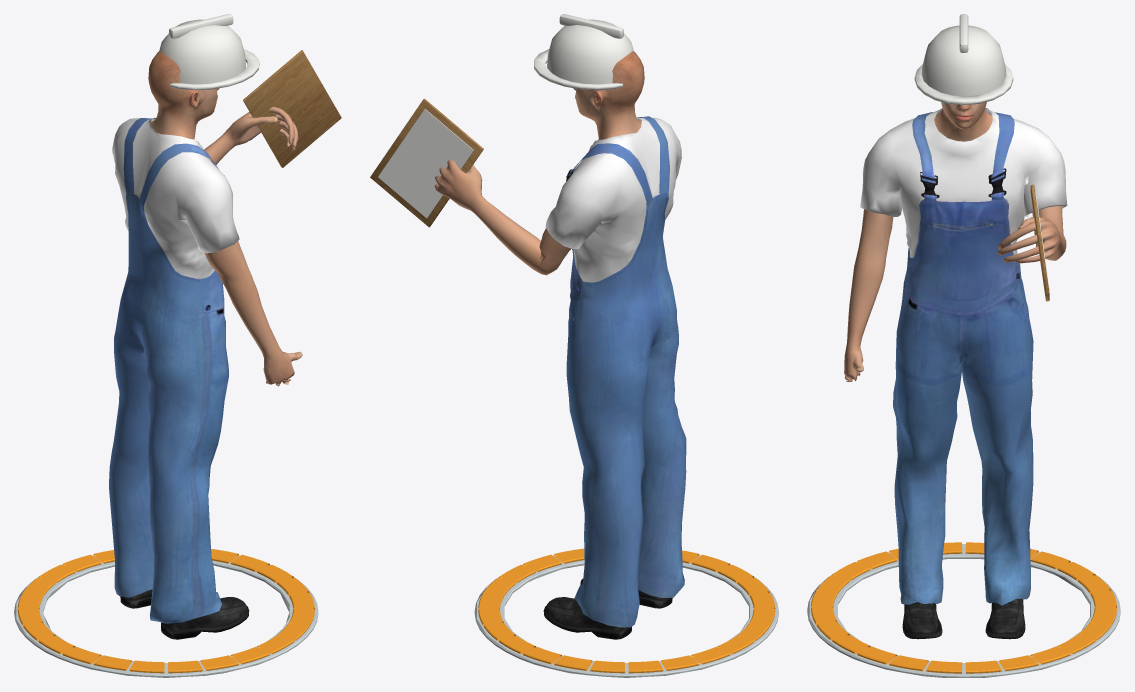
File: MDO-TEC-004_lod1.glb
3 views of the same model, side by side, from view 1: azimuth 30°, elevation 25°; view 2: azimuth 150°, elevation 25°; view 3: azimuth 270°, elevation 25° (orthographic). The views are drawn at different scales.
Visible parts, largest first — view 1: MDO-TEC-004_pessoa_male_worksuit01, MDO-TEC-004_pessoa, MDO-TEC-004_ferE_prancheta, MDO-TEC-004_capacete, MDO-TEC-004_anel_fundo, MDO-TEC-004_pessoa_shoes04, MDO-TEC-004_capacete_aba, MDO-TEC-004_capacete_friso; view 2: MDO-TEC-004_pessoa_male_worksuit01, MDO-TEC-004_pessoa, MDO-TEC-004_ferE_folha, MDO-TEC-004_capacete, MDO-TEC-004_anel_fundo, MDO-TEC-004_pessoa_shoes04, MDO-TEC-004_ferE_prancheta, MDO-TEC-004_capacete_aba, MDO-TEC-004_capacete_friso; view 3: MDO-TEC-004_pessoa_male_worksuit01, MDO-TEC-004_pessoa, MDO-TEC-004_capacete, MDO-TEC-004_anel_fundo, MDO-TEC-004_pessoa_shoes04, MDO-TEC-004_capacete_aba, MDO-TEC-004_ferE_prancheta.
Boxes of the visible parts, bbox=[...] form: MDO-TEC-004_pessoa_male_worksuit01: bbox=[109, 117, 239, 623]; MDO-TEC-004_pessoa: bbox=[148, 51, 302, 386]; MDO-TEC-004_ferE_prancheta: bbox=[243, 50, 341, 167]; MDO-TEC-004_capacete: bbox=[159, 19, 245, 84]; MDO-TEC-004_anel_fundo: bbox=[14, 555, 318, 677]; MDO-TEC-004_pessoa_shoes04: bbox=[120, 589, 249, 639]; MDO-TEC-004_capacete_aba: bbox=[170, 49, 259, 90]; MDO-TEC-004_capacete_friso: bbox=[169, 14, 233, 38]; MDO-TEC-004_pessoa_male_worksuit01: bbox=[545, 116, 686, 627]; MDO-TEC-004_pessoa: bbox=[434, 51, 644, 275]; MDO-TEC-004_ferE_folha: bbox=[378, 109, 473, 218]; MDO-TEC-004_capacete: bbox=[547, 19, 633, 84]; MDO-TEC-004_anel_fundo: bbox=[474, 555, 778, 677]; MDO-TEC-004_pessoa_shoes04: bbox=[543, 579, 672, 639]; MDO-TEC-004_ferE_prancheta: bbox=[370, 99, 483, 227]; MDO-TEC-004_capacete_aba: bbox=[534, 49, 622, 90]; MDO-TEC-004_capacete_friso: bbox=[559, 14, 623, 38]; MDO-TEC-004_pessoa_male_worksuit01: bbox=[860, 108, 1067, 605]; MDO-TEC-004_pessoa: bbox=[844, 102, 1066, 382]; MDO-TEC-004_capacete: bbox=[921, 25, 1006, 96]; MDO-TEC-004_anel_fundo: bbox=[807, 544, 1120, 677]; MDO-TEC-004_pessoa_shoes04: bbox=[902, 598, 1025, 639]; MDO-TEC-004_capacete_aba: bbox=[914, 64, 1013, 104]; MDO-TEC-004_ferE_prancheta: bbox=[1030, 184, 1049, 301].
Size of the model in its own units: 1.11 by 1.79 by 0.84.
Materials: 10 (6 with a texture image).
